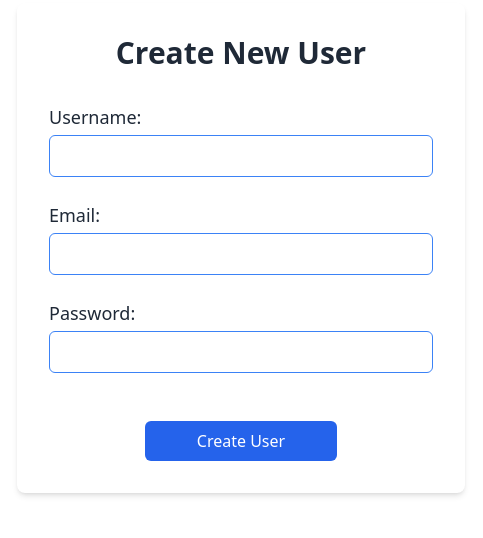
CreateUserForm Component › should show username taken message if username is already taken
Note: Fill in the username field
Type "takenusername" into the field labelled "Username:".
click(241, 156); type("takenusername")  # box [49, 135, 433, 177]
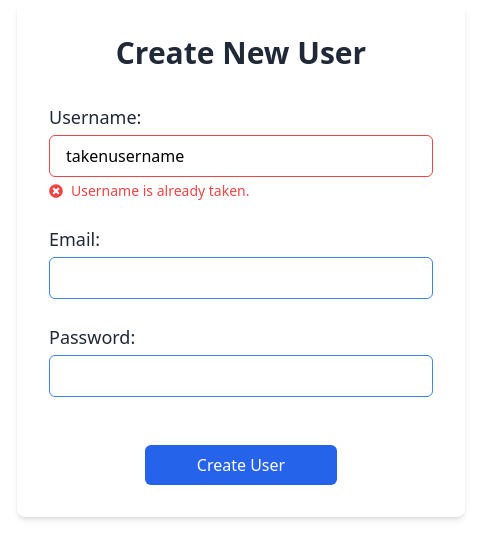
Check: the text "Username is already taken." is shown, box [71, 181, 250, 201]
